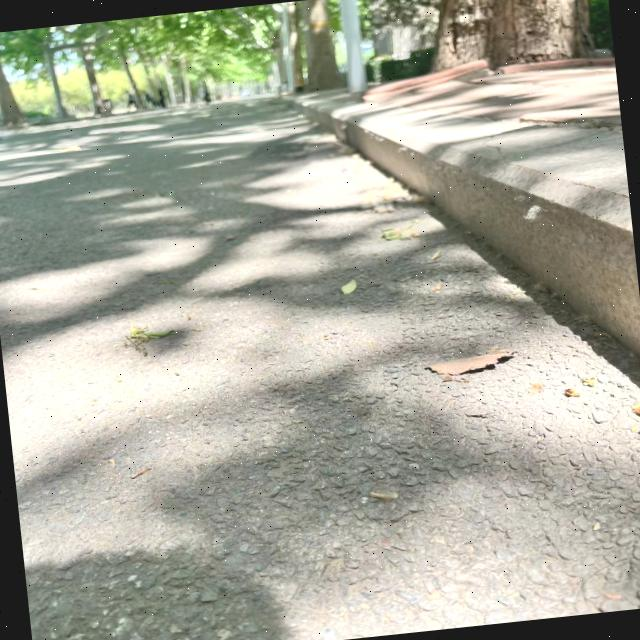curb: (289, 60, 640, 412)
